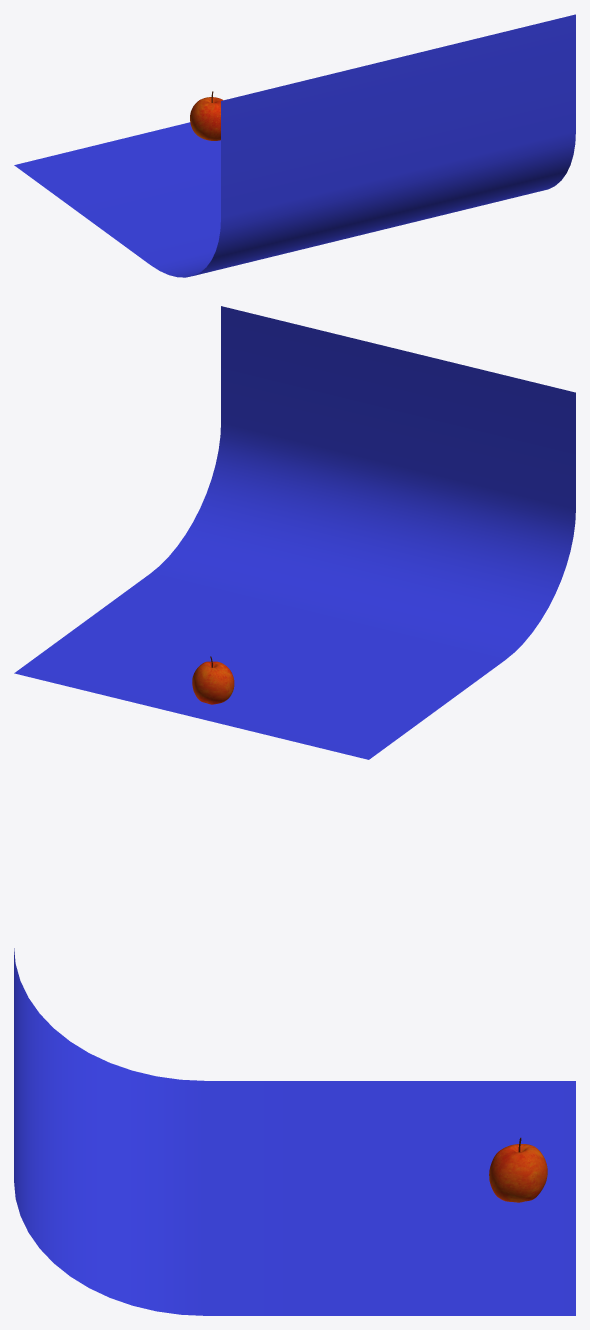
The model's file is apple.glb.
3 renders of one model, top to bottom at view 1: azimuth 30°, elevation 25°; view 2: azimuth 150°, elevation 25°; view 3: azimuth 270°, elevation 25°, orthographic. The views are drawn at different scales.
Parts seen in each view (by area): view 1: Plane, Apple; view 2: Plane, Apple; view 3: Plane, Apple.
Part boxes in pixels (box(x1,y1,x2,y2)): Plane: box(14, 14, 575, 277); Apple: box(190, 91, 222, 140); Plane: box(14, 306, 575, 759); Apple: box(192, 656, 234, 704); Plane: box(14, 948, 575, 1315); Apple: box(489, 1137, 547, 1202).
Size of the model in its own units: 55.38 by 32.18 by 55.96.
Materials: 3 (1 with a texture image).
